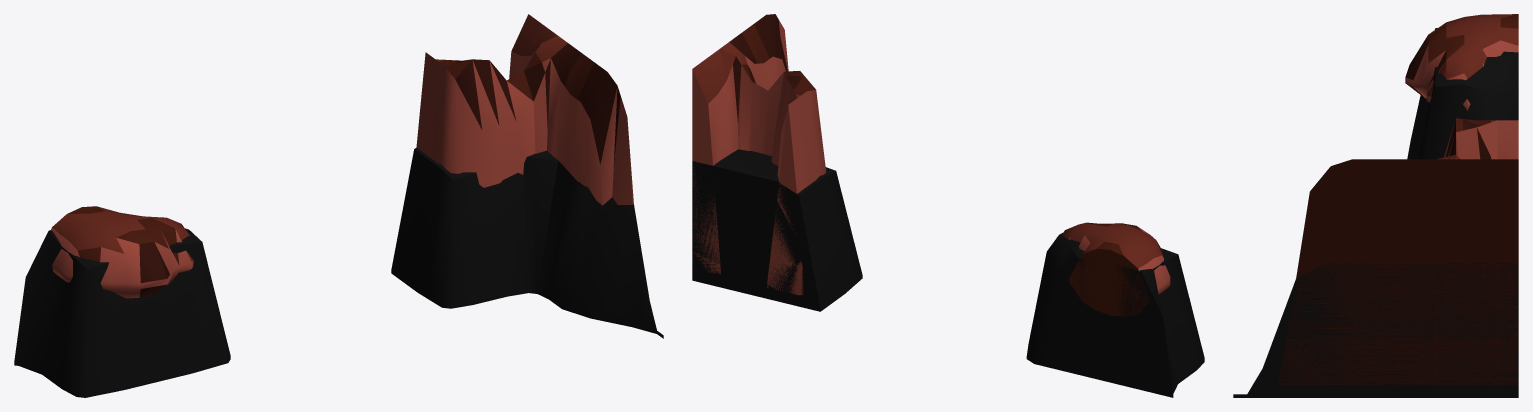
Rendered from deli_boss_41.glb.
3 renders of one model, left to right at view 1: azimuth 30°, elevation 25°; view 2: azimuth 150°, elevation 25°; view 3: azimuth 270°, elevation 25°, orthographic. The views are drawn at different scales.
Visible parts, largest first — view 1: deli_boss_41_core, deli_boss_41_frame, deli_boss_41_claw; view 2: deli_boss_41_core, deli_boss_41_frame, deli_boss_41_claw; view 3: deli_boss_41_frame, deli_boss_41_core, deli_boss_41_claw.
Part boxes in pixels (left/top/right/bottom): deli_boss_41_core: left=14, top=147, right=663, bottom=397; deli_boss_41_frame: left=416, top=14, right=633, bottom=205; deli_boss_41_claw: left=51, top=206, right=193, bottom=298; deli_boss_41_core: left=692, top=149, right=1204, bottom=397; deli_boss_41_frame: left=692, top=14, right=826, bottom=295; deli_boss_41_claw: left=1062, top=222, right=1170, bottom=316; deli_boss_41_frame: left=1278, top=118, right=1518, bottom=385; deli_boss_41_core: left=1233, top=28, right=1518, bottom=397; deli_boss_41_claw: left=1405, top=14, right=1518, bottom=110.
Bounding box in the file's own units: 22.5 × 9.45 × 10.25.
